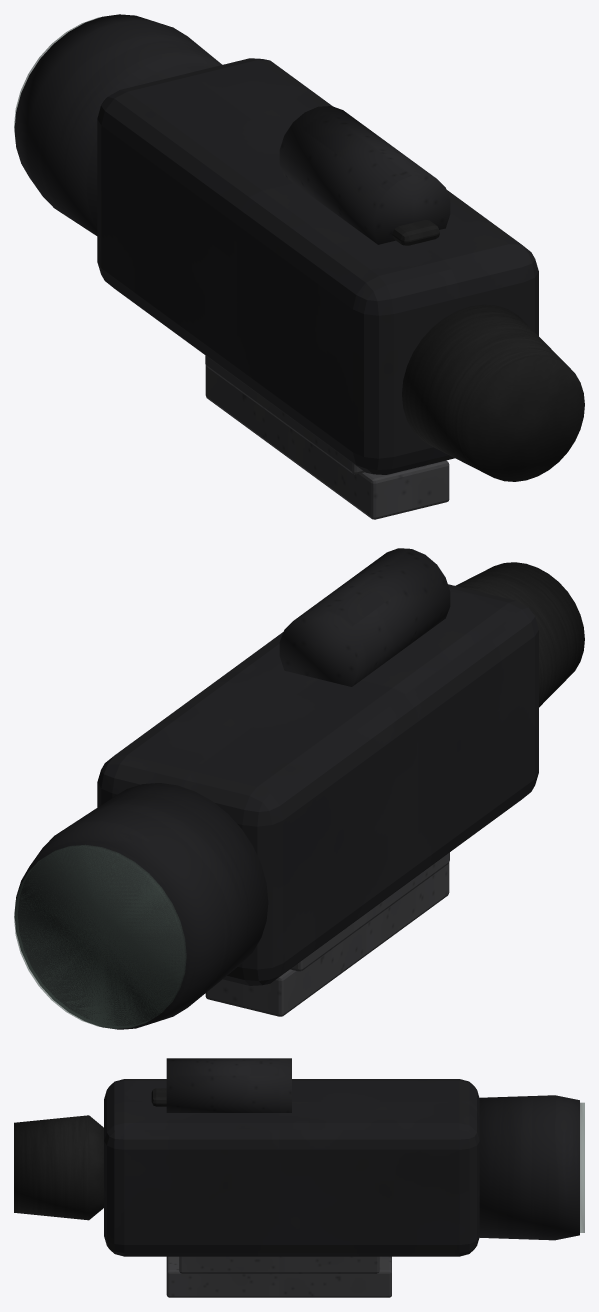
File: scope_thermal.glb
The picture shows the model from 3 angles, top to bottom: view 1: azimuth 30°, elevation 25°; view 2: azimuth 150°, elevation 25°; view 3: azimuth 270°, elevation 25°; orthographic projection. The views are drawn at different scales.
Visible parts, largest first — view 1: body, eye, obj, battery, base, riser, btn0; view 2: body, obj, lens_f, battery, base, eye, riser; view 3: body, obj, eye, battery, base, riser, lens_f.
Part boxes in pixels (bbox=[...]): body: bbox=[97, 58, 538, 474]; eye: bbox=[402, 304, 584, 481]; obj: bbox=[14, 14, 222, 235]; battery: bbox=[279, 106, 450, 244]; base: bbox=[205, 365, 449, 519]; riser: bbox=[205, 355, 364, 474]; btn0: bbox=[392, 219, 439, 245]; body: bbox=[97, 584, 538, 985]; obj: bbox=[15, 783, 268, 1029]; lens_f: bbox=[14, 845, 186, 1028]; battery: bbox=[279, 548, 450, 686]; base: bbox=[205, 863, 449, 1016]; eye: bbox=[455, 562, 584, 707]; riser: bbox=[290, 852, 449, 971]; body: bbox=[104, 1079, 479, 1256]; obj: bbox=[479, 1095, 579, 1240]; eye: bbox=[14, 1115, 103, 1220]; battery: bbox=[166, 1058, 291, 1112]; base: bbox=[166, 1256, 391, 1297]; riser: bbox=[179, 1256, 379, 1273]; lens_f: bbox=[580, 1102, 584, 1232].
Size of the model in its own units: 0.058 by 0.099 by 0.228.
5 materials, 4 textured.
